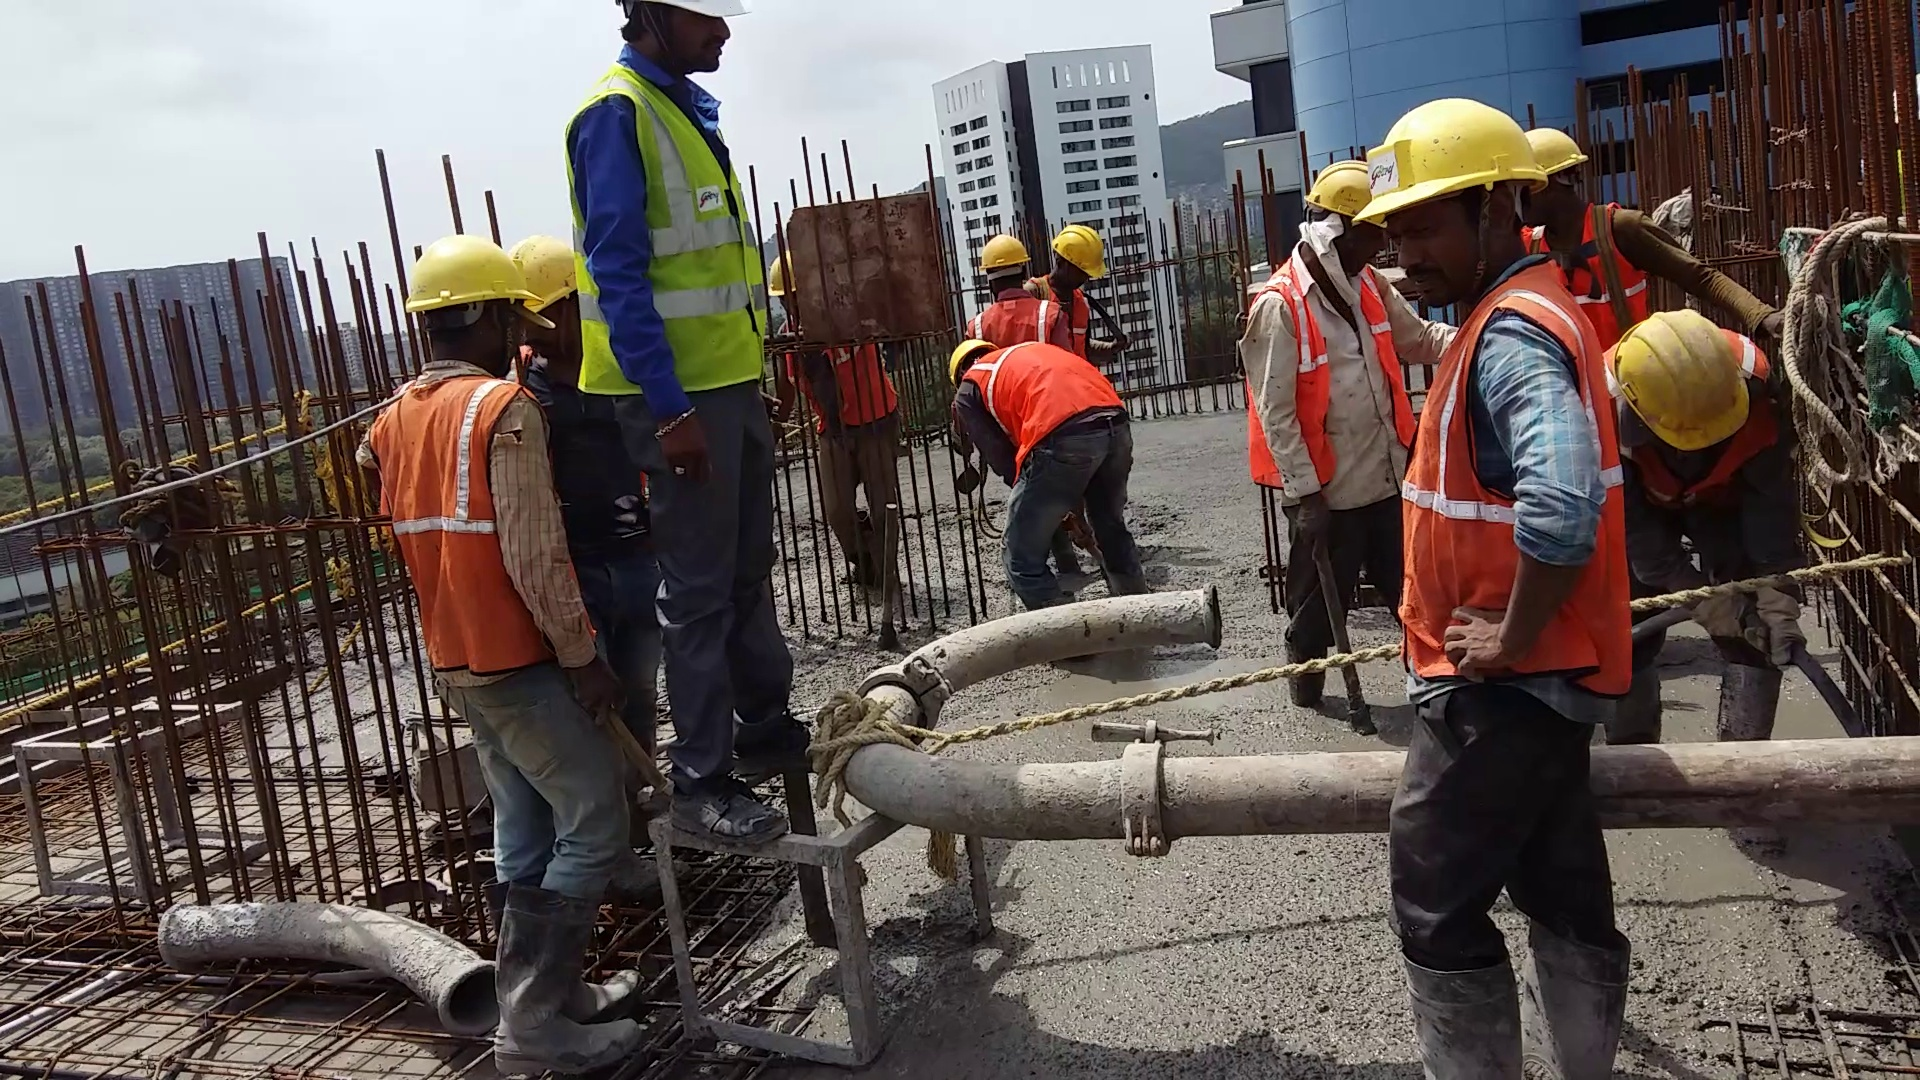SAFE: (1371, 98, 1605, 700), (564, 1, 774, 393), (384, 233, 560, 684), (1246, 160, 1370, 493), (1611, 314, 1774, 521), (942, 334, 1127, 475), (971, 229, 1058, 344)
